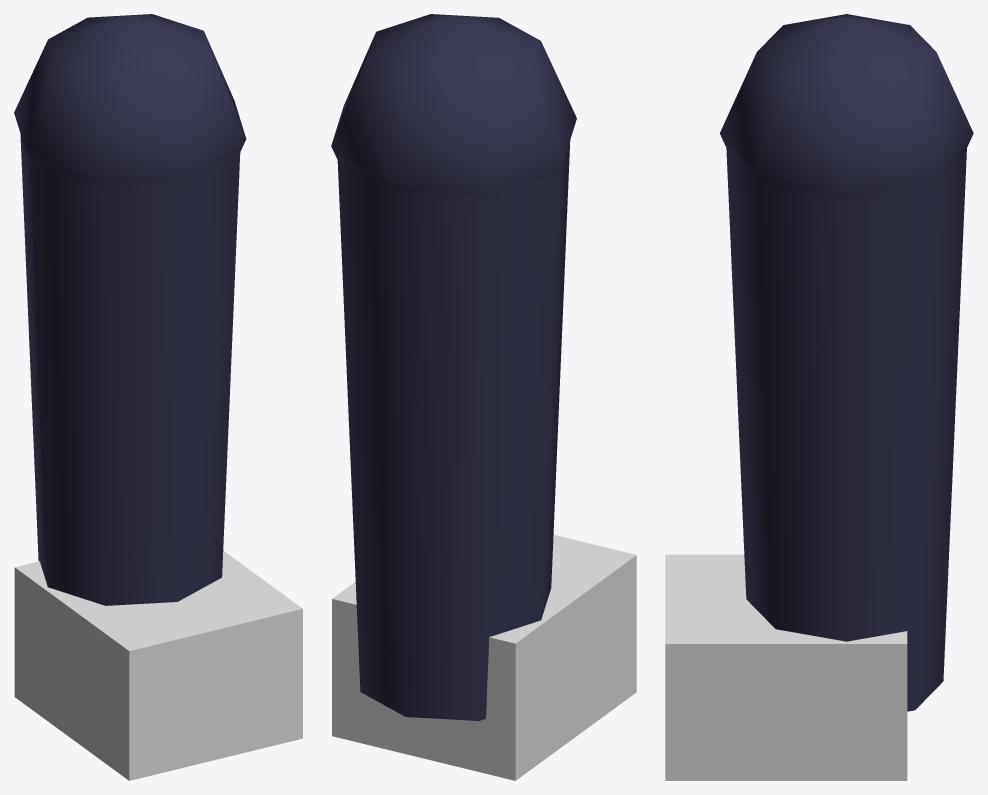
File: PArrodillado_Pantorrilla.obj
3 renders of one model, left to right at view 1: azimuth 30°, elevation 25°; view 2: azimuth 150°, elevation 25°; view 3: azimuth 270°, elevation 25°, orthographic. The views are drawn at different scales.
Parts seen in each view (by area): view 1: Pantorrilla; view 2: Pantorrilla; view 3: Pantorrilla.
Boxes of the visible parts, x1,y1,x2,y2 form: Pantorrilla: (14, 14, 302, 780); Pantorrilla: (331, 14, 636, 780); Pantorrilla: (665, 14, 973, 780).
Bounding box in the file's own units: 0.084 × 0.262 × 0.102.
Materials: 1 (1 with a texture image).
